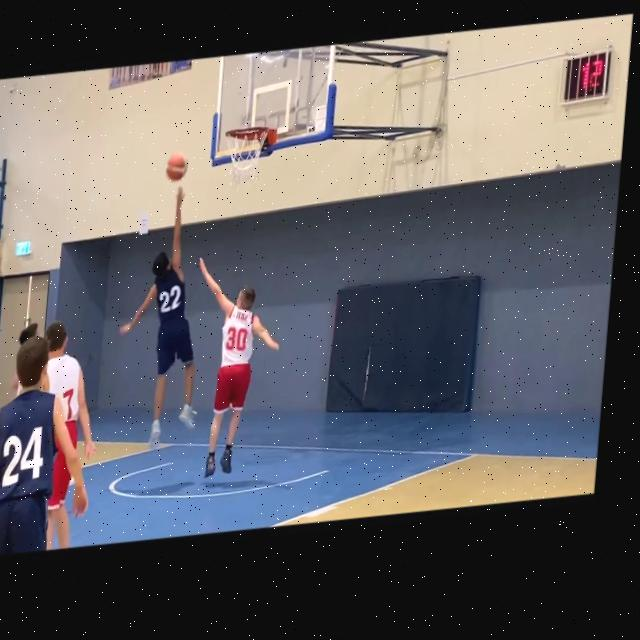basketball: (165, 150, 188, 184)
hoop: (219, 123, 274, 192)
